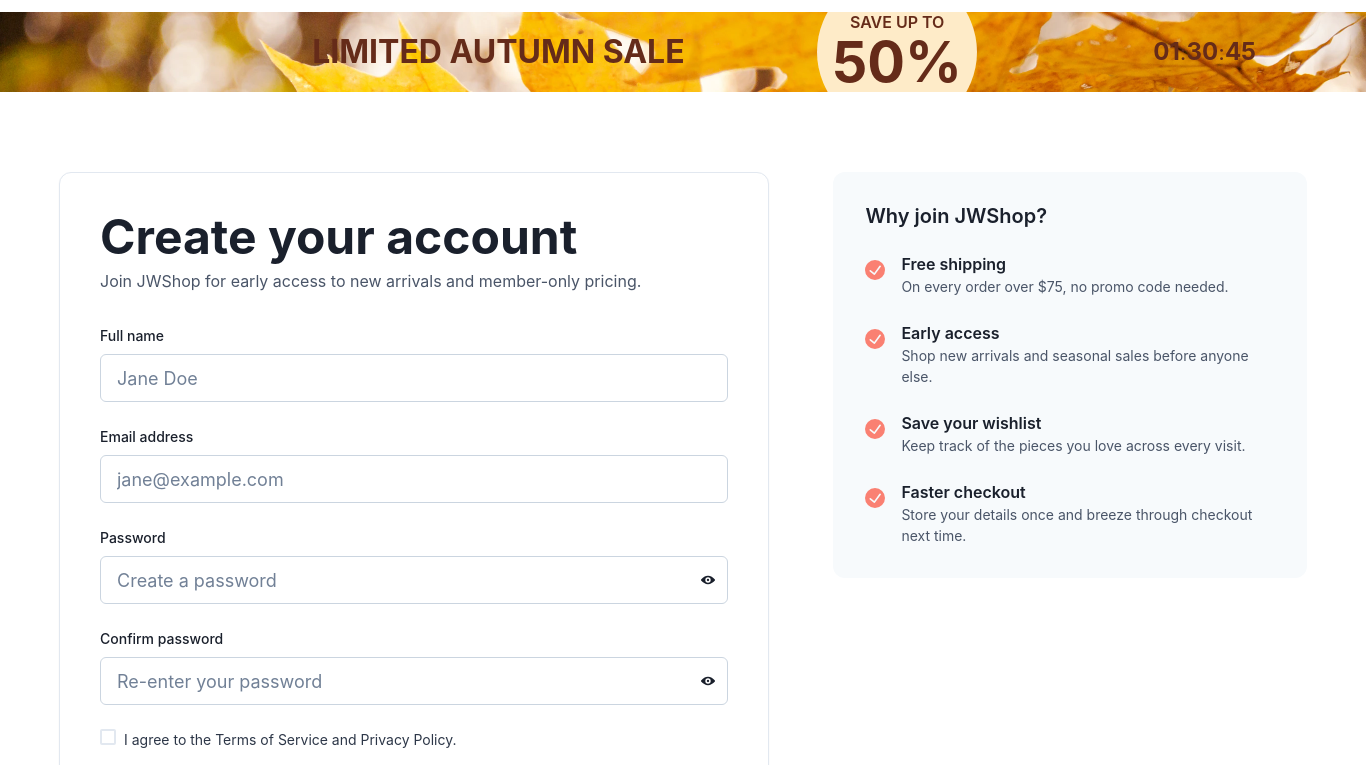
it: RegisterPage component › labels a weak password as "Weak" and a strong password as "Strong"
The width and height of the screenshot is (1366, 765).
Type "abc" into the password field labelled "Password" at x=414, y=580, box x1=100 y1=556 x2=728 y2=604
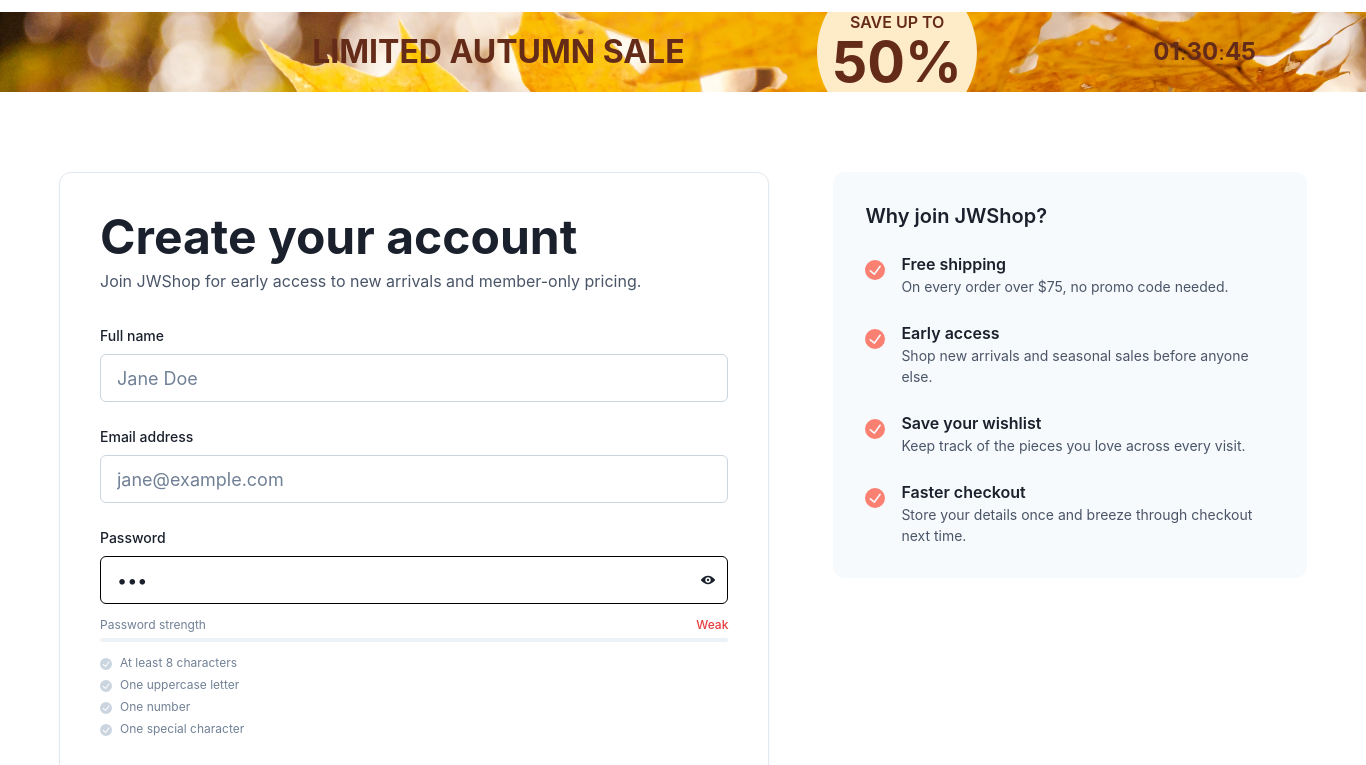
Result: the text "Weak" is shown at x1=696 y1=616 x2=728 y2=634
Type "Str0ng!Pass" into the password field labelled "Password" at x=414, y=580, box x1=100 y1=556 x2=728 y2=604
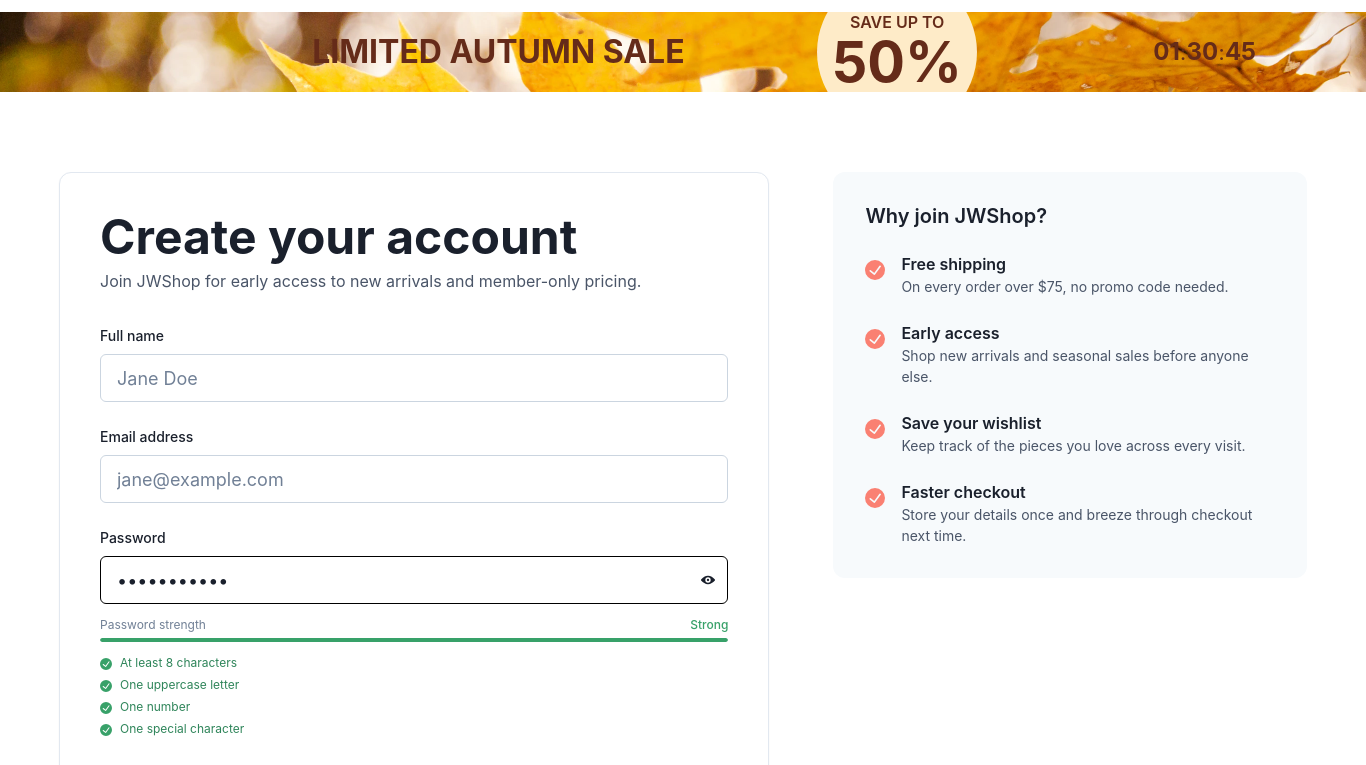
Result: the text "Strong" is shown at x1=690 y1=616 x2=728 y2=634
